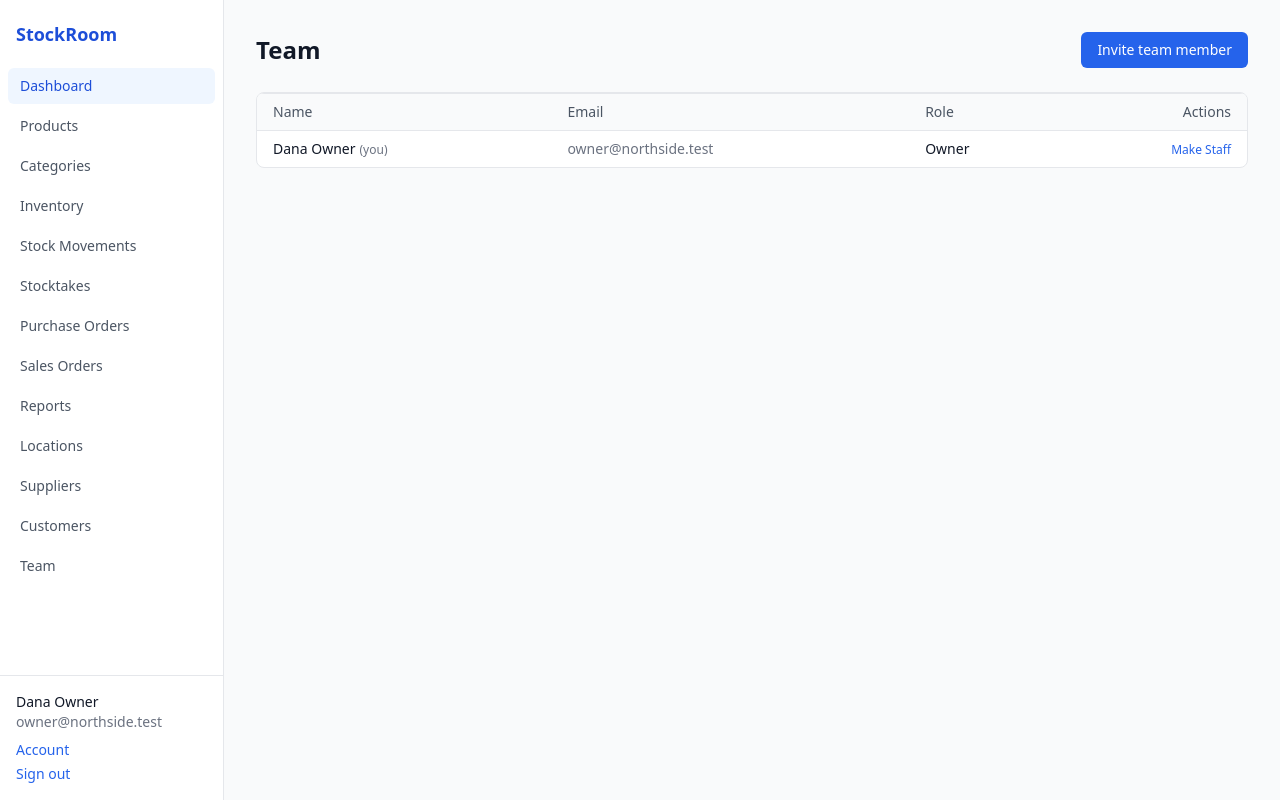
Test: TeamPage invite › closes the form and shows the new row on success
This screenshot has width=1280, height=800.
Expected: the text "(you)" is shown, [360, 141, 388, 158]
Click the button "Invite team member" at (1165, 50), box [1081, 32, 1248, 68]
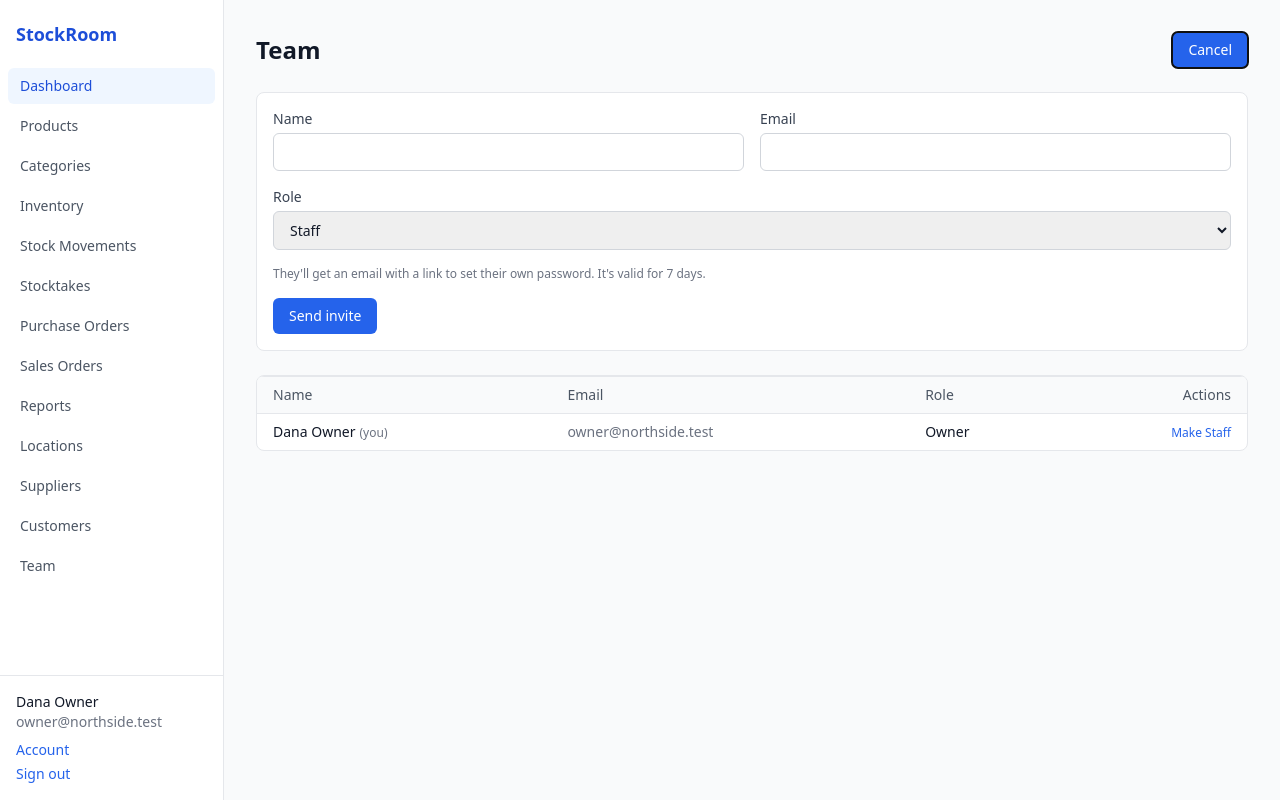
Type "Sam Clerk" into the field labelled "Name" at (508, 152), box [273, 133, 744, 171]
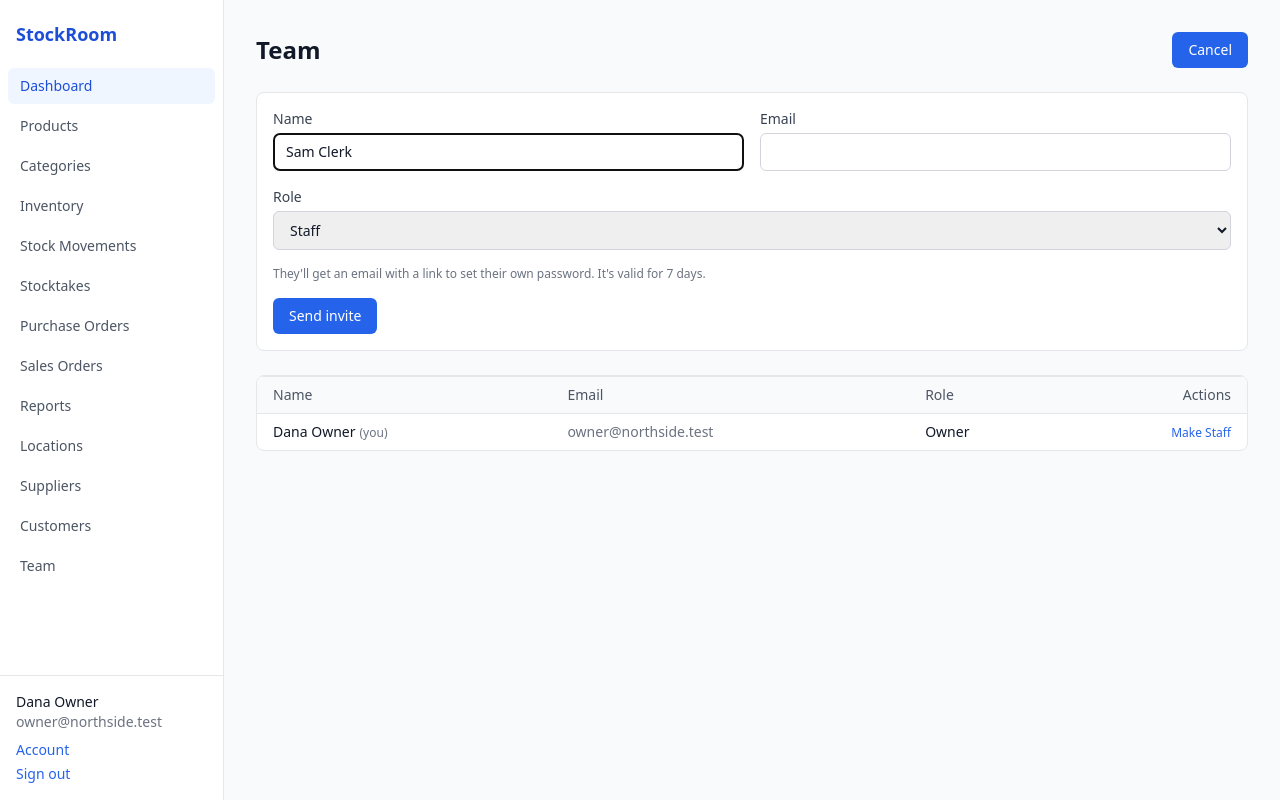
Type "clerk@northside.test" into the field labelled "Email" at (996, 152), box [760, 133, 1231, 171]
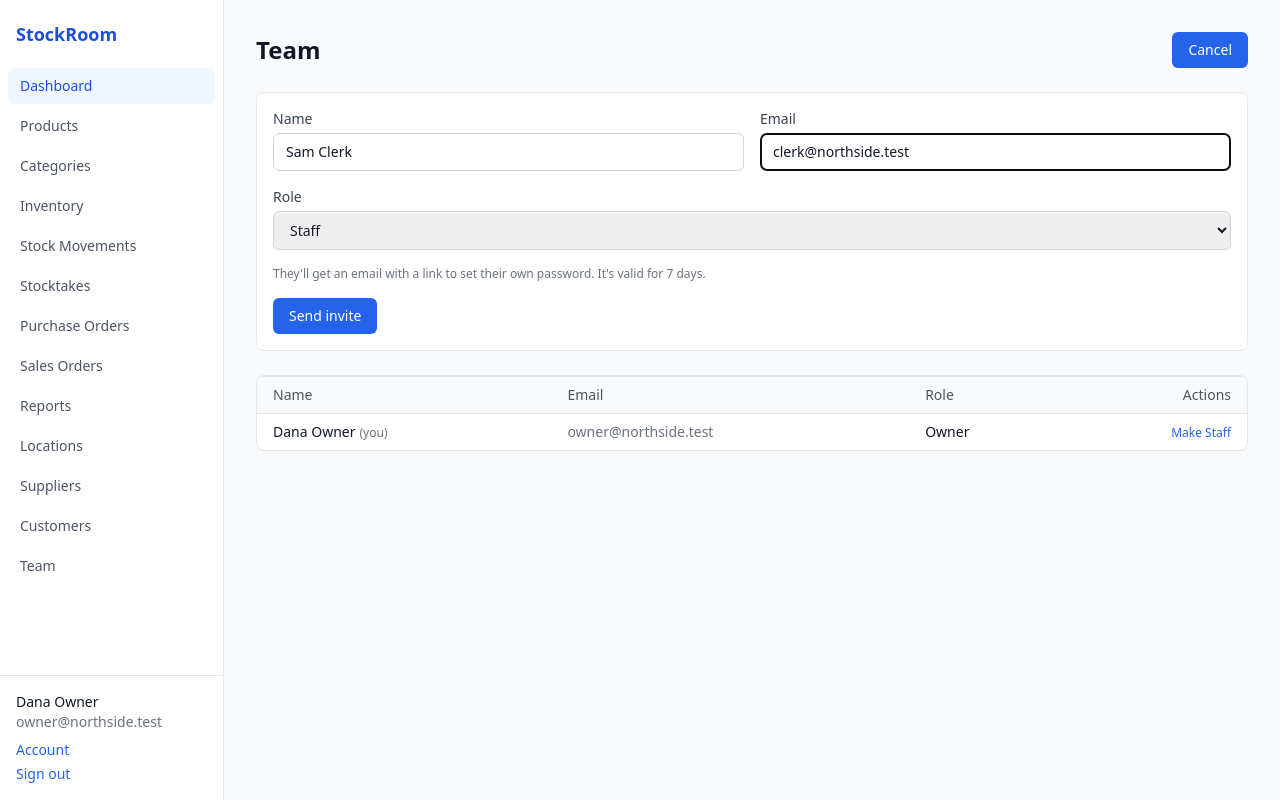
Click the button "Send invite" at (325, 316), box [273, 298, 377, 334]
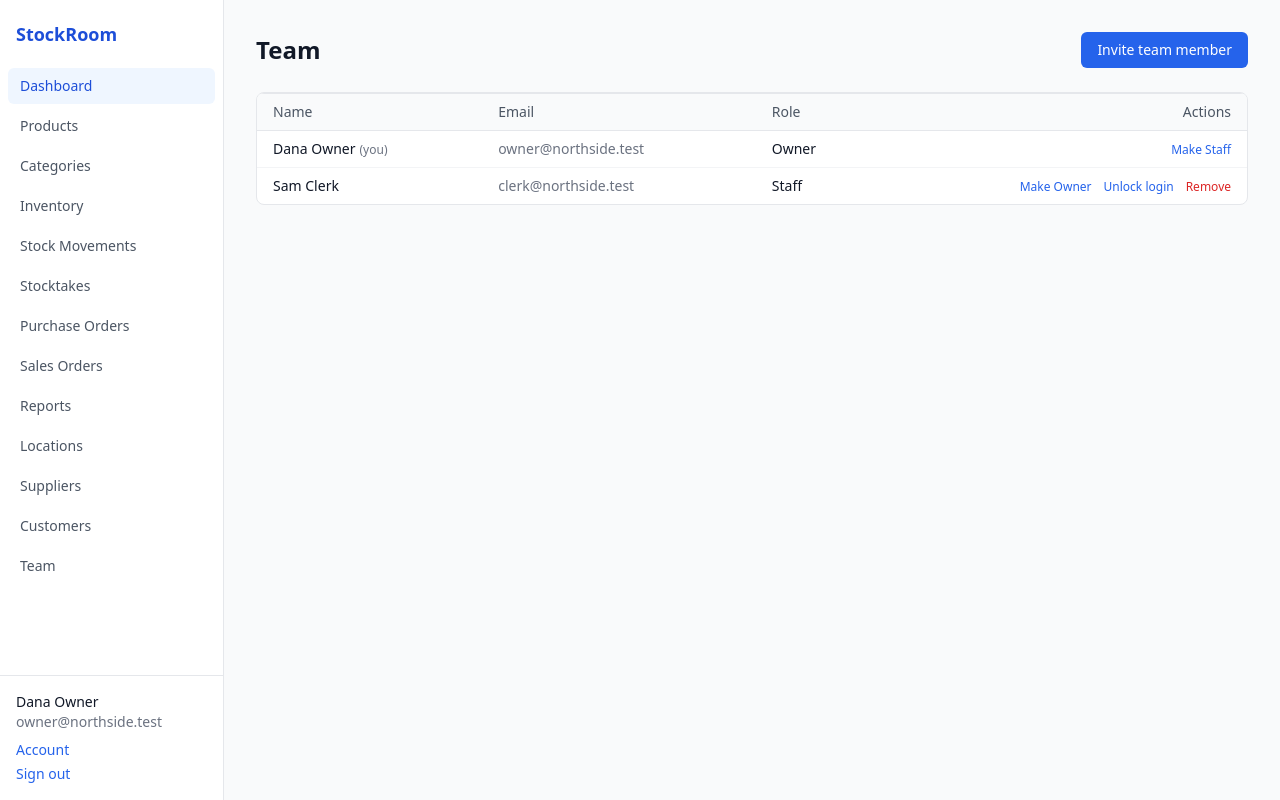
Expected: the text "Sam Clerk" is shown, [257, 168, 482, 204]
